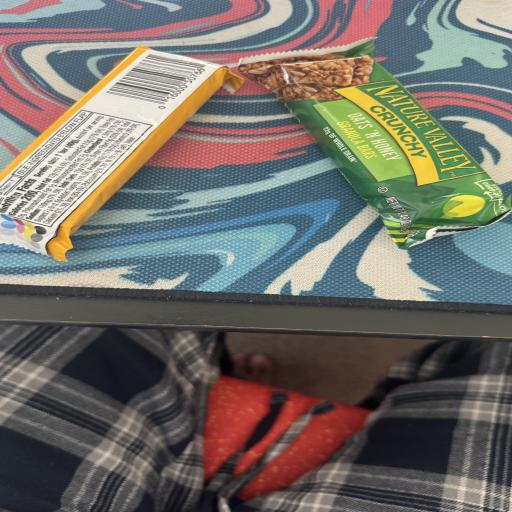granola: (239, 40, 511, 249), (0, 47, 243, 260)
